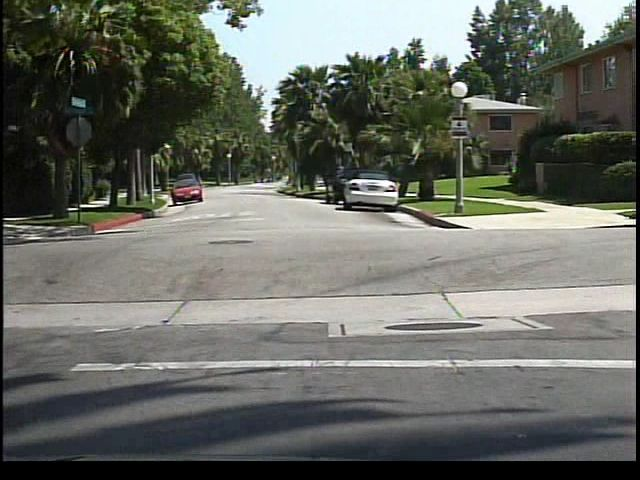car: (345, 171, 398, 212), (169, 177, 202, 206)
strada: (1, 239, 640, 453)
